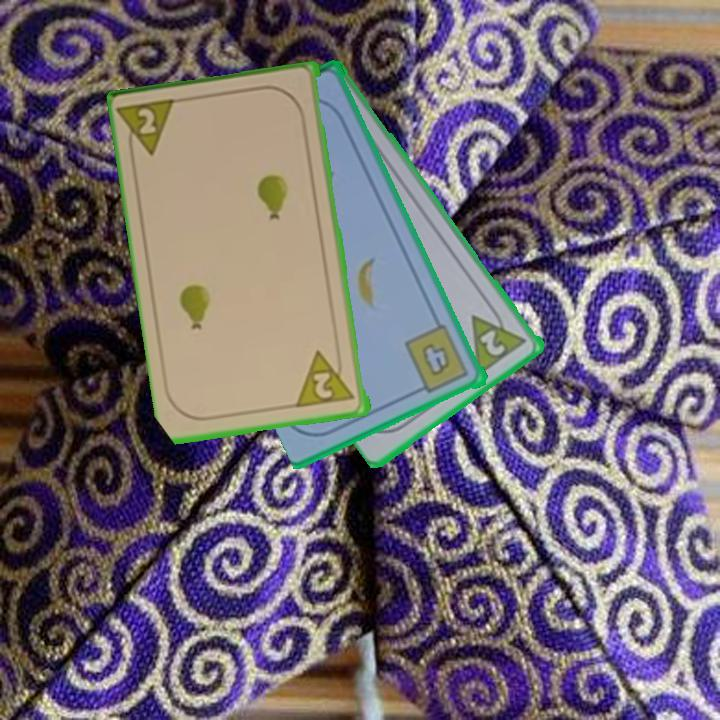2p: (467, 299, 531, 378), (117, 95, 182, 163), (294, 346, 359, 411)
4b: (401, 322, 472, 397)
